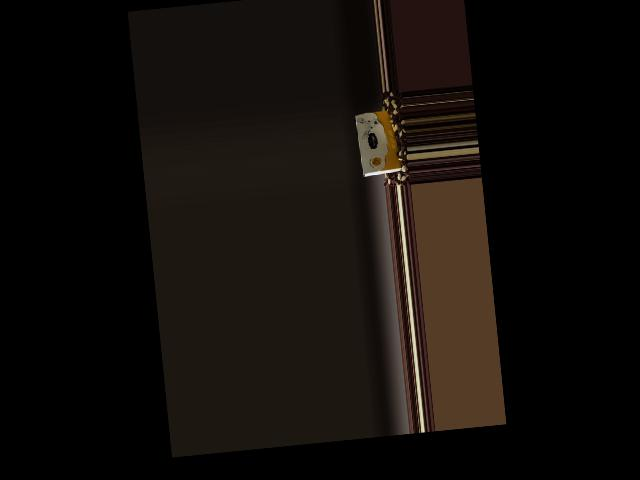chocolate: (352, 105, 404, 180)
